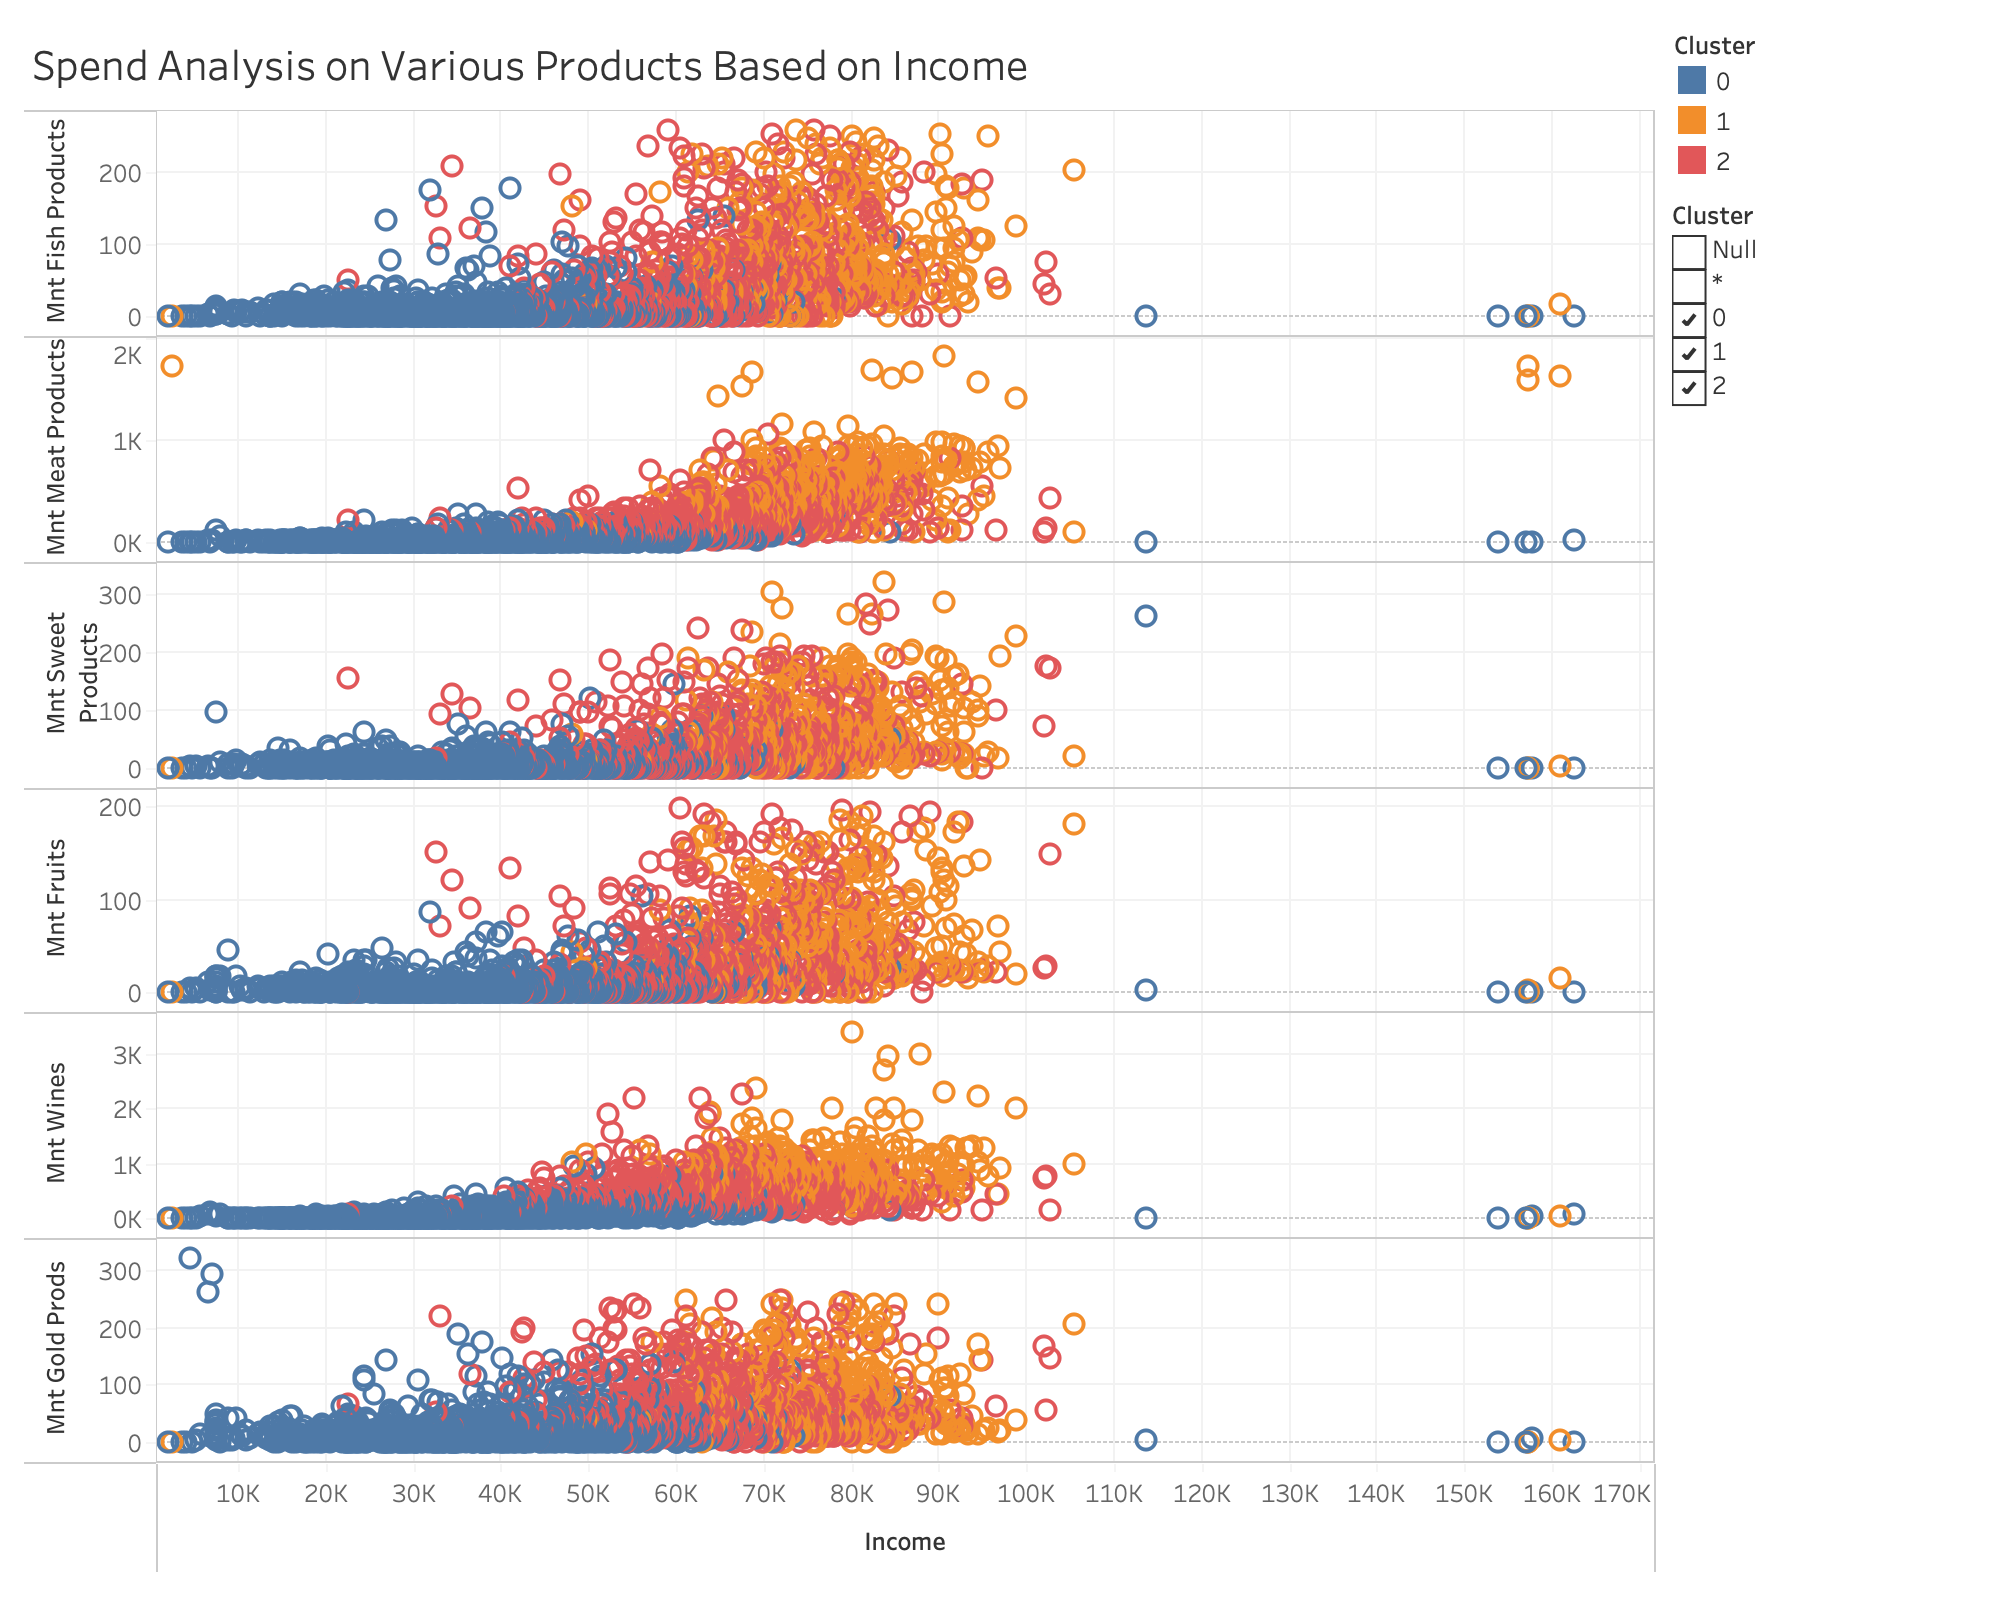

What the dashboard file says about the page in this screenshot:
{"tool":"tableau","page":{"name":"Spend Analysis Category Wise","canvas":[1000,800],"ordinal":6},"visuals":[{"type":"worksheet","title":"Income - Product Spending ","mark":"Automatic","rows":["MntFishProducts","MntMeatProducts","MntSweetProducts","MntFruits","MntWines","MntGoldProds"],"cols":["Income"],"box":[8,8,824,784]},{"type":"legend","title":"Income - Product Spending ","param":"[federated.0h42g6r1er60x316i2s0j0oj86pa].[attr:Cluster:nk]","box":[832,8,160,86]},{"type":"filter","title":"Income - Product Spending ","param":"[federated.0h42g6r1er60x316i2s0j0oj86pa].[attr:Cluster:nk]","box":[832,94,160,146]}]}

Visuals, with their boxes in screenshot pixels (x1, y1, x2, y2), scaled from the page's 1000x800 canvas onto the 2000x1600 screenshot:
"Income - Product Spending " worksheet: 16 16 1664 1584
"Income - Product Spending " legend: 1664 16 1984 188
"Income - Product Spending " filter: 1664 188 1984 480
